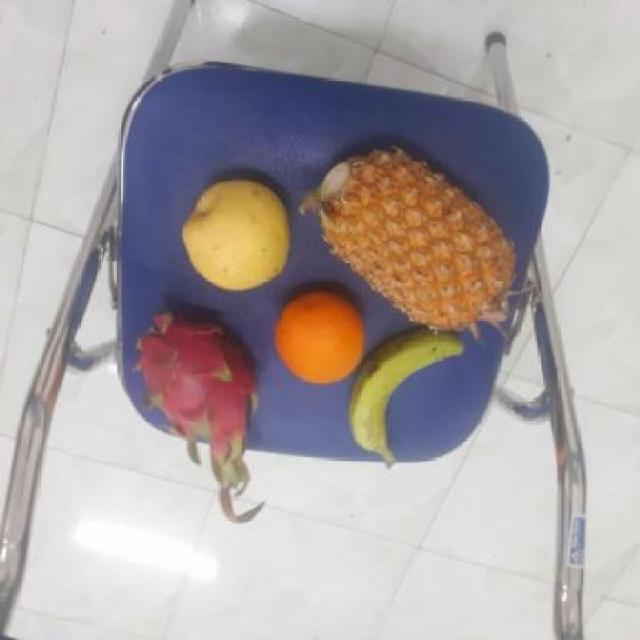dragon fruit: (336, 322, 509, 467), (135, 302, 267, 453)
oren: (274, 289, 372, 386)
pear: (181, 178, 297, 290)
pineapple: (311, 152, 520, 332)
